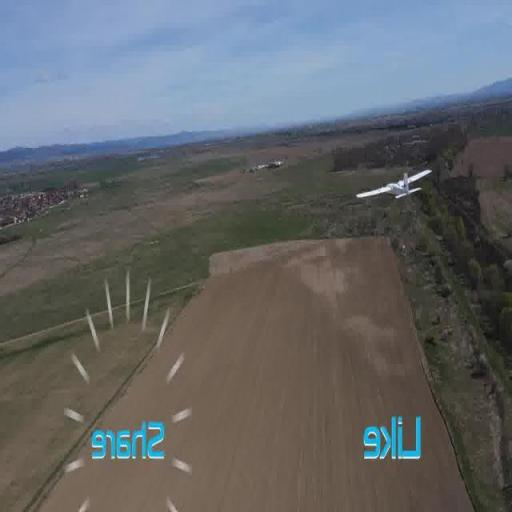uav: (354, 162, 435, 216)
